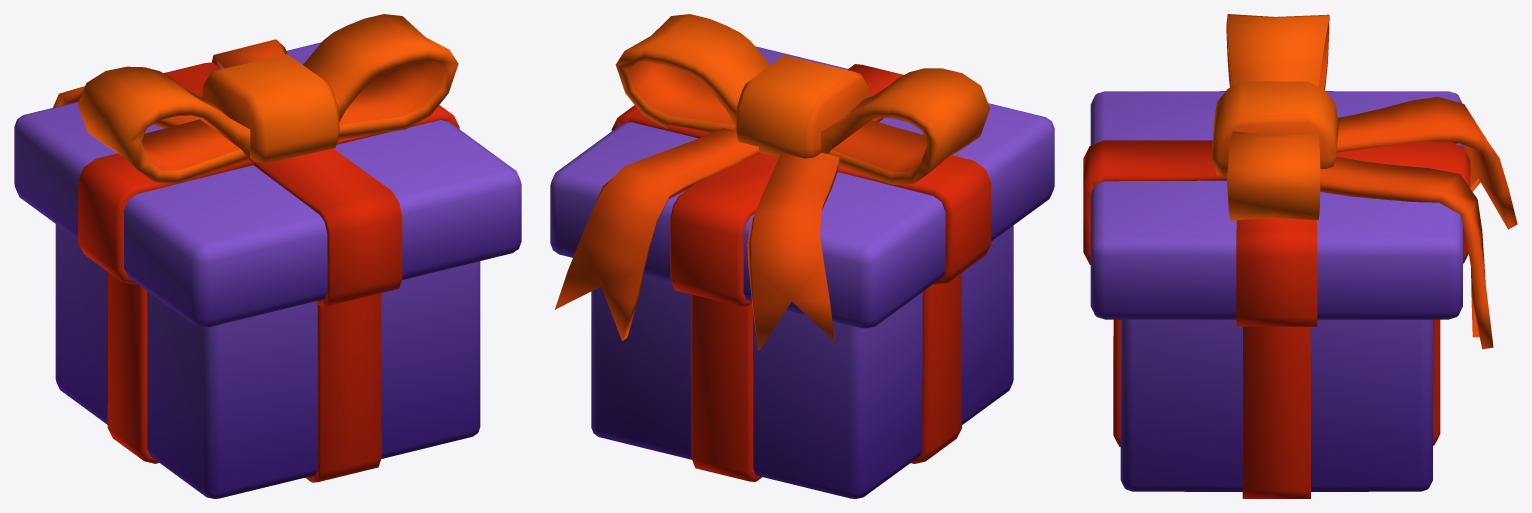
Rendered from Gift_Pack_V2_0.fbx.
The picture shows the model from 3 angles, left to right: view 1: azimuth 30°, elevation 25°; view 2: azimuth 150°, elevation 25°; view 3: azimuth 270°, elevation 25°; orthographic projection. The views are drawn at different scales.
Visible parts, largest first — view 1: Gift_Pack_V2_0; view 2: Gift_Pack_V2_0; view 3: Gift_Pack_V2_0.
Part boxes in pixels (x1,y1,x2,y2): Gift_Pack_V2_0: (14,14,521,498); Gift_Pack_V2_0: (550,14,1054,498); Gift_Pack_V2_0: (1083,14,1517,498).
Size of the model in its own units: 0.3723 by 0.3801 by 0.4178.
